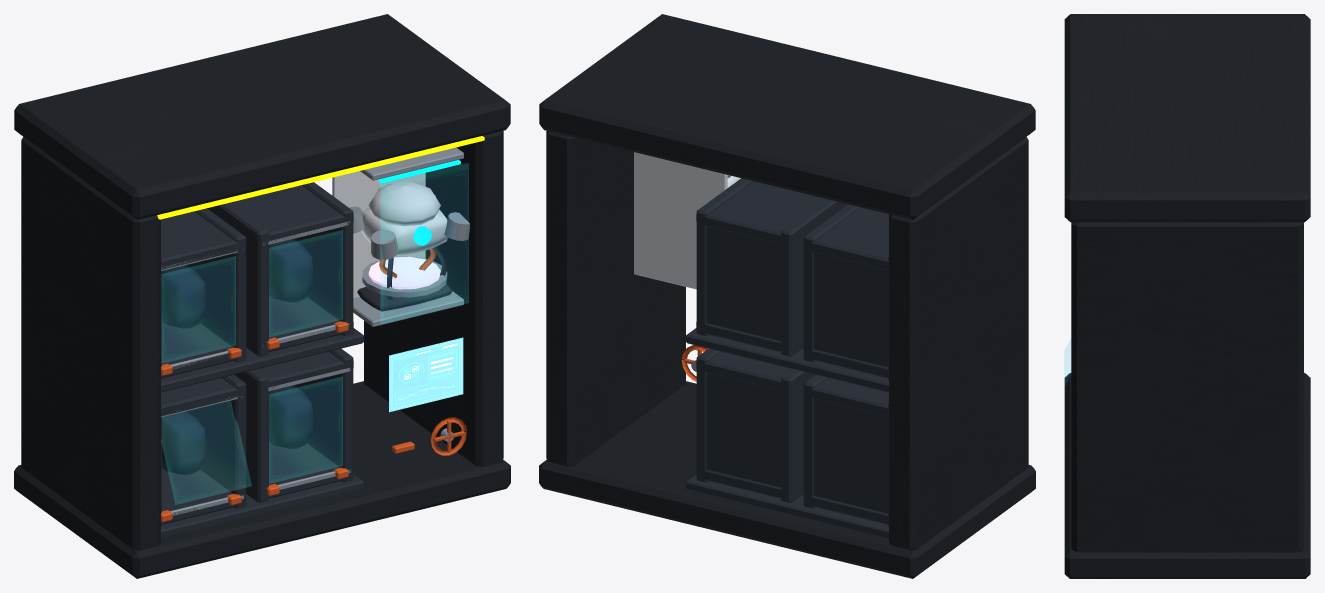
The model's file is cargo_gantry_r1_05.glb.
3 renders of one model, left to right at view 1: azimuth 30°, elevation 25°; view 2: azimuth 150°, elevation 25°; view 3: azimuth 270°, elevation 25°, orthographic.
Parts seen in each view (by area): view 1: Cargo05_CryoTankerGunmetalFrame, Cargo05_CarbonSlateISOFrame, Cargo05_TranslucentCargoAndDroneGlass, Cargo05_NavyPalletBundles, Cargo05_MachinedHoistAndThrusters, Cargo05_WhiteCryoDrumsAndDrone, Cargo05_OLEDTelemetryKiosk, Cargo05_SignalOrangeTankValvesAndClaws, Cargo05_AmberTankerBeacon, Cargo05_UVChargePad, Cargo05_CharcoalBumperPads, Cargo05_CyanLiDARAndBayLEDs; view 2: Cargo05_CryoTankerGunmetalFrame, Cargo05_CarbonSlateISOFrame, Cargo05_WhiteCryoDrumsAndDrone; view 3: Cargo05_CryoTankerGunmetalFrame.
Part boxes in pixels (left/top/right/bottom): Cargo05_CryoTankerGunmetalFrame: left=14, top=14, right=510, bottom=578; Cargo05_CarbonSlateISOFrame: left=161, top=182, right=363, bottom=538; Cargo05_TranslucentCargoAndDroneGlass: left=162, top=163, right=468, bottom=503; Cargo05_NavyPalletBundles: left=162, top=239, right=312, bottom=474; Cargo05_MachinedHoistAndThrusters: left=161, top=147, right=469, bottom=515; Cargo05_WhiteCryoDrumsAndDrone: left=332, top=171, right=447, bottom=297; Cargo05_OLEDTelemetryKiosk: left=389, top=337, right=463, bottom=412; Cargo05_SignalOrangeTankValvesAndClaws: left=161, top=248, right=467, bottom=522; Cargo05_AmberTankerBeacon: left=157, top=136, right=484, bottom=219; Cargo05_UVChargePad: left=368, top=256, right=440, bottom=289; Cargo05_CharcoalBumperPads: left=357, top=246, right=452, bottom=311; Cargo05_CyanLiDARAndBayLEDs: left=378, top=160, right=460, bottom=245; Cargo05_CryoTankerGunmetalFrame: left=539, top=14, right=1035, bottom=578; Cargo05_CarbonSlateISOFrame: left=686, top=178, right=888, bottom=538; Cargo05_WhiteCryoDrumsAndDrone: left=634, top=152, right=740, bottom=289; Cargo05_CryoTankerGunmetalFrame: left=1064, top=14, right=1310, bottom=578.
Bounding box in the file's own units: 2.65 × 2.6 × 1.5.
Materials: 12 (12 with a texture image).
